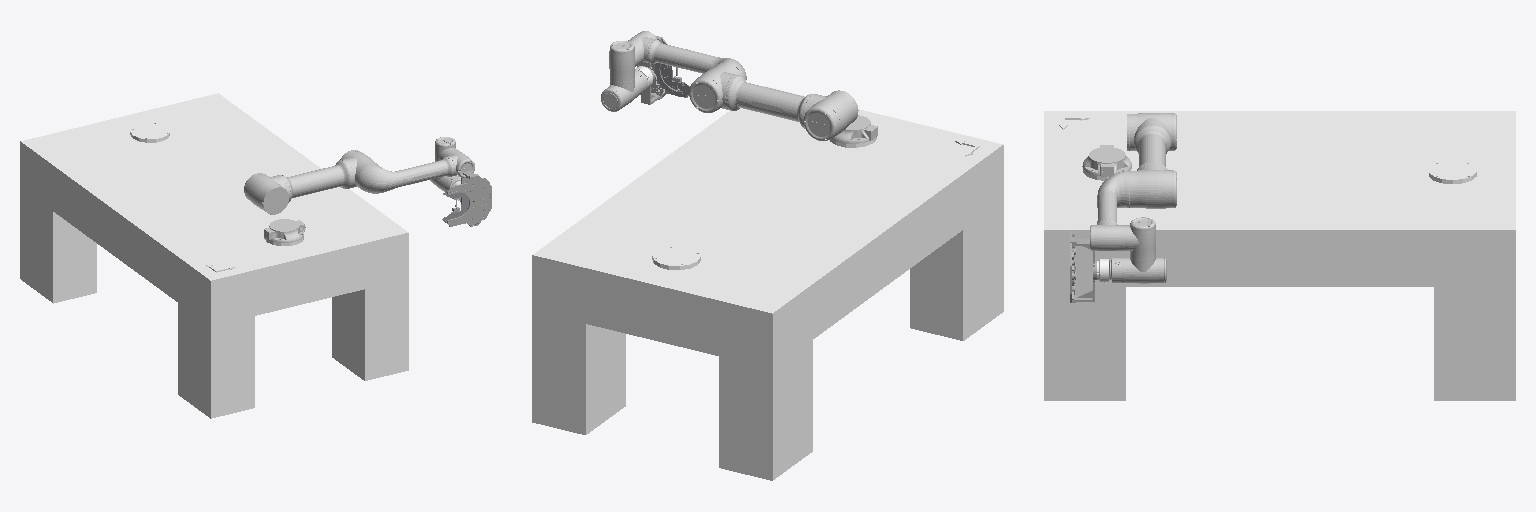
robot.urdf — dual_robot:
<?xml version="1.0" ?>
<robot name="dual_robot">
  <link name="base_link">
    <inertial>
      <origin xyz="0.45001 0.74998 0.42961" rpy="0 0 0" />
      <mass value="353.69" />
      <inertia ixx="90.977" ixy="-0.0055919"
        ixz="-0.00060496" iyy="36.448"
        iyz="0.0010856" izz="111.92" />
    </inertial>
    <visual>
      <origin xyz="0 0 0" rpy="0 0 0" />
      <geometry>
        <mesh filename="package://robot_description/meshes/table_base.STL" />
      </geometry>
      <material name="">
        <color rgba="1 1 1 1" />
      </material>
    </visual>
    <collision>
      <origin xyz="0 0 0" rpy="0 0 0" />
      <geometry>
        <mesh filename="package://robot_description/meshes/table_base.STL" />
      </geometry>
    </collision>
  </link>

<!--////////////////////////// RIGHT ARM ///////////////////////////-->

   <link name="right_link0">
    <inertial>
      <origin xyz="0.000991862282192705 -0.000192651788556533 0.0195495600981984" rpy="0 0 0" />
      <mass value="0.51639212234536" />
      <inertia
        ixx="0.000628942697006034" ixy="-6.29951814299122E-09"
        ixz="3.21122859626175E-06" iyy="0.00086768897455273"
        iyz="2.45009142518561E-07" izz="0.00136178777793849" />
    </inertial>
    <visual>
      <origin xyz="0 0 0" rpy="0 0 0" />
      <geometry>
        <mesh filename="package://robot_description/meshes/right_link0.STL" />
      </geometry>
      <material name="">
        <color rgba="0.847058823529412 0.847058823529412 0.847058823529412 1" />
      </material>
    </visual>
    <collision>
      <origin xyz="0 0 0" rpy="0 0 0" />
      <geometry>
        <mesh filename="package://robot_description/meshes/right_link0.STL" />
      </geometry>
    </collision>
  </link>

  <joint name="r_j0" type="fixed">
    <origin xyz="0.45 0.20023 0.615" rpy="0 0 0" />
    <parent link="base_link" />
    <child link="right_link0" />
    <axis xyz="0 0 1" />
  </joint>


  <link name="right_link1">
    <inertial>
      <origin xyz="-2.51857531862948E-07 0.00332256500839039 -0.00150902460016494" rpy="0 0 0" />
      <mass value="15.1346479444998" />
      <inertia
        ixx="0.0443031651788231" ixy="-2.81167524079919E-08"
        ixz="-4.05968268990278E-07" iyy="0.0430901762109995"
        iyz="1.43719449704963E-05" izz="0.0305221713846399" />
    </inertial>
    <visual>
      <origin xyz="0 0 0" rpy="0 0 0" />
      <geometry>
        <mesh filename="package://robot_description/meshes/right_link1.STL" />
      </geometry>
      <material name="">
        <color rgba="0.847058823529412 0.847058823529412 0.847058823529412 1" />
      </material>
    </visual>
    <collision>
      <origin xyz="0 0 0" rpy="0 0 0" />
      <geometry>
        <mesh filename="package://robot_description/meshes/right_link1.STL" />
      </geometry>
    </collision>
  </link>

  <joint name="r_j1" type="revolute">
    <origin xyz="0 -0.00022535 0.12015" rpy="0 0 0" />
    <parent link="right_link0" />
    <child link="right_link1" />
    <axis xyz="0 0 -1" />
    <limit
      lower="-6.2832" upper="6.2832"
      effort="0" velocity="0" />
  </joint>


  <link name="right_link2">
    <inertial>
      <origin xyz="0.215000100287162 6.43173030112631E-09 -0.143146610069181" rpy="0 0 0" />
      <mass value="45.8465918633366" />
      <inertia
        ixx="0.1037483140575" ixy="-5.87095025796085E-08"
        ixz="2.54282490418091E-07" iyy="0.240121009336192"
        iyz="2.15483178628983E-08" izz="0.212572501503178" />
    </inertial>
    <visual>
      <origin xyz="0 0 0" rpy="0 0 0" />
      <geometry>
        <mesh filename="package://robot_description/meshes/right_link2.STL" />
      </geometry>
      <material name="">
        <color rgba="0.847058823529412 0.847058823529412 0.847058823529412 1" />
      </material>
    </visual>
    <collision>
      <origin xyz="0 0 0" rpy="0 0 0" />
      <geometry>
        <mesh filename="package://robot_description/meshes/right_link2.STL" />
      </geometry>
    </collision>
  </link>

  <joint name="r_j2" type="revolute">
    <origin xyz="0 0 0" rpy="1.5708 0 0" />
    <parent link="right_link1" />
    <child link="right_link2" />
    <axis xyz="0 0 1" />
    <limit
      lower="-1.4835"
      upper="4.6251"
      effort="0"
      velocity="0" />
  </joint>


  <link name="right_link3">
    <inertial>
      <origin xyz="0.190735496583493 -1.52687675682439E-05 -0.0106365862195597" rpy="0 0 0" />
      <mass value="18.0534564554839" />
      <inertia
        ixx="0.0197914204709761" ixy="6.48612971078311E-07"
        ixz="-0.0162800799758652" iyy="0.168630223367361"
        iyz="3.37641397432236E-07" izz="0.16527336838242" />
    </inertial>
    <visual>
      <origin xyz="0 0 0" rpy="0 0 0" />
      <geometry>
        <mesh filename="package://robot_description/meshes/right_link3.STL" />
      </geometry>
      <material name="">
        <color rgba="0.847058823529412 0.847058823529412 0.847058823529412 1" />
      </material>
    </visual>
    <collision>
      <origin xyz="0 0 0" rpy="0 0 0" />
      <geometry>
        <mesh filename="package://robot_description/meshes/right_link3.STL" />
      </geometry>
    </collision>
  </link>

  <joint name="r_j3" type="revolute">
    <origin xyz="0.43 0 0" rpy="0 0 0" />
    <parent link="right_link2" />
    <child link="right_link3" />
    <axis xyz="0 0 1" />
    <limit
      lower="-3.0543" upper="3.0543"
      effort="0" velocity="0" />
  </joint>

  <link name="right_link4">
    <inertial>
      <origin xyz="-1.98734804623957E-06 -0.00595118756440466 0.00267886074216198" rpy="0 0 0" />
      <mass value="5.53782702890544" />
      <inertia
        ixx="0.00708415707773479" ixy="1.83211236326858E-07"
        ixz="-2.36169851102956E-08" iyy="0.00516123063669"
        iyz="-0.000397739879929697" izz="0.00684324625577804" />
    </inertial>
    <visual>
      <origin xyz="0 0 0" rpy="0 0 0" />
      <geometry>
        <mesh filename="package://robot_description/meshes/right_link4.STL" />
      </geometry>
      <material name="">
        <color rgba="0.847058823529412 0.847058823529412 0.847058823529412 1" />
      </material>
    </visual>
    <collision>
      <origin xyz="0 0 0" rpy="0 0 0" />
      <geometry>
        <mesh filename="package://robot_description/meshes/right_link4.STL" />
      </geometry>
    </collision>
  </link>

  <joint name="r_j4" type="revolute">
    <origin xyz="0.3685 -1.185E-05 -0.114" rpy="0 0 0" />
    <parent link="right_link3" />
    <child link="right_link4" />
    <axis xyz="0 0 -1" />
    <limit
      lower="-1.4835" upper="4.6251"
      effort="0" velocity="0" />
  </joint>

  <link name="right_link5">
    <inertial>
      <origin xyz="-1.90944871281129E-06 -0.00288907759425724 -0.00234237394169168" rpy="0 0 0" />
      <mass value="6.33394466548074" />
      <inertia
        ixx="0.012920396120737" ixy="-1.08659585918921E-07"
        ixz="5.89055789344623E-09" iyy="0.00584529345673906"
        iyz="4.29603782509869E-05" izz="0.0126275585433332" />
    </inertial>
    <visual>
      <origin xyz="0 0 0" rpy="0 0 0" />
      <geometry>
        <mesh filename="package://robot_description/meshes/right_link5.STL" />
      </geometry>
      <material name="">
        <color rgba="0.847058823529412 0.847058823529412 0.847058823529412 1" />
      </material>
    </visual>
    <collision>
      <origin xyz="0 0 0" rpy="0 0 0" />
      <geometry>
        <mesh filename="package://robot_description/meshes/right_link5.STL" />
      </geometry>
    </collision>
  </link>

  <joint name="r_j5" type="revolute">
    <origin xyz="0 -0.1135 0" rpy="1.5708 0 0" />
    <parent link="right_link4" />
    <child link="right_link5" />
    <axis xyz="0 0 1" />
    <limit
      lower="-6.2832" upper="6.2832"
      effort="0" velocity="0" />
  </joint>


  <link name="right_link6">
    <inertial>
      <origin xyz="2.76523161144571E-05 -1.34854737601515E-05 -0.021245060068734" rpy="0 0 0" />
      <mass value="1.41689125820954" />
      <inertia
        ixx="0.000713704897956402" ixy="-6.91164349011993E-07"
        ixz="-6.36734535410033E-07" iyy="0.00072362694039658"
        iyz="1.5890038073839E-06" izz="0.00112895600939514" />
    </inertial>
    <visual>
      <origin xyz="0 0 0" rpy="0 0 0" />
      <geometry>
        <mesh filename="package://robot_description/meshes/right_link6.STL" />
      </geometry>
      <material name="">
        <color rgba="0.847058823529412 0.847058823529412 0.847058823529412 1" />
      </material>
    </visual>
    <collision>
      <origin xyz="0 0 0" rpy="0 0 0" />
      <geometry>
        <mesh filename="package://robot_description/meshes/right_link6.STL" />
      </geometry>
    </collision>
  </link>

  <joint name="r_j6" type="revolute">
    <origin xyz="0 0.107 0" rpy="-1.5708 0 0" />
    <parent link="right_link5" />
    <child link="right_link6" />
    <axis xyz="0 0 1" />
    <limit
      lower="-6.2832" upper="6.2832"
      effort="0" velocity="0" />
  </joint>

<!-- /////////////////////////////// RIGHT FORCE SENSOR ////////////////////////////// -->
  <link name="force_sensor_link">
    <inertial>
      <origin xyz="-0.00038657 0.00017956 -0.02055" rpy="0 0 0" />
      <mass value="0.12592" />
      <inertia
        ixx="5.6139E-05" ixy="4.6333E-07"
        ixz="-3.1627E-08" iyy="5.5177E-05"
        iyz="-1.4175E-07" izz="9.499E-05" />
    </inertial>
    <visual>
      <origin xyz="0 0 0" rpy="0 0 0" />
      <geometry>
        <mesh filename="package://robot_description/meshes/force_sensor_link.STL" />
      </geometry>
      <material name="">
        <color rgba="1 1 1 1" />
      </material>
    </visual>
    <collision>
      <origin xyz="0 0 0" rpy="0 0 0" />
      <geometry>
        <mesh filename="package://robot_description/meshes/force_sensor_link.STL" />
      </geometry>
    </collision>
  </link>

  <joint name="r_f1" type="fixed">
    <origin xyz="0.00044323 -0.00044323 0.0395" rpy="0 0 0" />
    <parent link="right_link6" />
    <child link="force_sensor_link" />
    <axis xyz="0 0 0" />
  </joint>

<!-- /////////////////////////////// RIGHT TOOL ////////////////////////////// -->
  <link name="tool_body">
    <inertial>
      <origin xyz="0.0030549 4.2661E-07 0.047026" rpy="0 0 0" />
      <mass value="0.31958" />
      <inertia
        ixx="0.0011856" ixy="-1.0021E-07"
        ixz="2.5315E-07" iyy="0.00041875"
        iyz="-7.8268E-10" izz="0.0014705" />
    </inertial>
    <visual>
      <origin xyz="0 0 0" rpy="0 0 0" />
      <geometry>
        <mesh filename="package://robot_description/meshes/tool_body.STL" />
      </geometry>
      <material name="">
        <color rgba="0.74902 0.74902 0.74902 1" />
      </material>
    </visual>
    <collision>
      <origin xyz="0 0 0" rpy="0 0 0" />
      <geometry>
        <mesh filename="package://robot_description/meshes/tool_body.STL" />
      </geometry>
    </collision>
  </link>

  <joint name="r_f2" type="fixed">
    <origin xyz="-0.00044323 0.00044323 0.013" rpy="0 0 0" />
    <parent link="force_sensor_link" />
    <child link="tool_body" />
    <axis xyz="0 0 -1" />
    <limit
      lower="0" upper="0"
      effort="0" velocity="0" />
  </joint>

  <link name="screw_gear">
    <inertial>
      <origin xyz="-0.018422 -0.0011551 0.0012466" rpy="0 0 0" />
      <mass value="0.4637" />
      <inertia
        ixx="0.0010994" ixy="2.3876E-05"
        ixz="1.4588E-06" iyy="0.00058941"
        iyz="2.5853E-07" izz="0.0016815" />
    </inertial>
    <visual>
      <origin xyz="0 0 0" rpy="0 0 0" />
      <geometry>
        <mesh filename="package://robot_description/meshes/screw_gear.STL" />
      </geometry>
      <material name="">
        <color rgba="0.63922 0.63922 0.66275 1" />
      </material>
    </visual>
    <collision>
      <origin xyz="0 0 0" rpy="0 0 0" />
      <geometry>
        <mesh filename="package://robot_description/meshes/screw_gear.STL" />
      </geometry>
    </collision>
  </link>

  <joint name="r_c1" type="continuous">
    <origin xyz="-0.0785 0 0.0644" rpy="3.1416 0 3.1416" />
    <parent link="tool_body" />
    <child link="screw_gear" />
    <axis xyz="0 0 -1" />
  </joint>


  <link name="side_left">
    <inertial>
      <origin xyz="-1.9154E-10 5.5893E-12 0.00045008" rpy="0 0 0" />
      <mass value="0.0043012" />
      <inertia
        ixx="1.3074E-07" ixy="6.2645E-15"
        ixz="4.2165E-16" iyy="3.1828E-07"
        iyz="6.4925E-16" izz="2.6659E-07" />
    </inertial>
    <visual>
      <origin xyz="0 0 0" rpy="0 0 0" />
      <geometry>
        <mesh filename="package://robot_description/meshes/side_left.STL" />
      </geometry>
      <material name="">
        <color rgba="0.74902 0.74902 0.74902 1" />
      </material>
    </visual>
    <collision>
      <origin xyz="0 0 0" rpy="0 0 0" />
      <geometry>
        <mesh filename="package://robot_description/meshes/side_left.STL" />
      </geometry>
    </collision>
  </link>

  <joint name="r_p1" type="prismatic">
    <origin xyz="0.0012847 -0.026778 0.0036" rpy="-1.5708 0 -3.0937" />
    <parent link="screw_gear" />
    <child link="side_left" />
    <axis xyz="0 0 -1" />
    <limit
      lower="-0.01" upper="0.005"
      effort="0" velocity="0" />
  </joint>


  <link name="right_side">
    <inertial>
      <origin xyz="2.2426E-05 3.1396E-05 2.1095E-05" rpy="0 0 0" />
      <mass value="0.0042532" />
      <inertia
        ixx="3.0118E-07" ixy="-7.0175E-15"
        ixz="2.9195E-17" iyy="1.1553E-07"
        iyz="1.3439E-16" izz="2.6427E-07" />
    </inertial>
    <visual>
      <origin xyz="0 0 0" rpy="0 0 0" />
      <geometry>
        <mesh filename="package://robot_description/meshes/right_side.STL" />
      </geometry>
      <material name="">
        <color rgba="0.74902 0.74902 0.74902 1" />
      </material>
    </visual>
    <collision>
      <origin xyz="0 0 0" rpy="0 0 0" />
      <geometry>
        <mesh filename="package://robot_description/meshes/right_side.STL" />
      </geometry>
    </collision>
  </link>

  <joint name="r_p2" type="prismatic">
    <origin xyz="-0.0012847 0.026778 0.0036" rpy="1.6187 -1.5708 0" />
    <parent link="screw_gear" />
    <child link="right_side" />
    <axis xyz="0 0 1" />
    <limit
      lower="-0.01" upper="0.005"
      effort="0" velocity="0" />
  </joint>

</robot>

--- Render facts (derived) ---
3 views of the same robot in one strip: view 1: azimuth 30°, elevation 25°; view 2: azimuth 150°, elevation 25°; view 3: azimuth 270°, elevation 25° (orthographic).
Model dual_robot with 13 links and 12 joints (6 revolute, 1 continuous, 2 prismatic, 3 fixed), rooted at base_link, posed all joints at 0.
Links seen in each view (by area): view 1: base_link, right_link2, right_link3, tool_body, right_link0; view 2: base_link, right_link2, right_link3, right_link4, right_link5, right_link0, screw_gear, tool_body; view 3: base_link, right_link2, right_link3, right_link4, right_link0, right_link5, tool_body.
Boxes of the visible links, x1=… form: base_link: x1=20, y1=93, x2=408, y2=418; right_link2: x1=244, y1=150, x2=377, y2=214; right_link3: x1=358, y1=148, x2=474, y2=193; tool_body: x1=447, y1=171, x2=491, y2=226; right_link0: x1=264, y1=219, x2=305, y2=242; base_link: x1=532, y1=86, x2=1003, y2=480; right_link2: x1=689, y1=62, x2=858, y2=140; right_link3: x1=628, y1=31, x2=746, y2=79; right_link4: x1=609, y1=41, x2=639, y2=84; right_link5: x1=601, y1=75, x2=642, y2=111; right_link0: x1=832, y1=115, x2=877, y2=143; screw_gear: x1=655, y1=63, x2=689, y2=96; tool_body: x1=637, y1=36, x2=687, y2=104; base_link: x1=1044, y1=111, x2=1515, y2=400; right_link2: x1=1127, y1=113, x2=1176, y2=208; right_link3: x1=1090, y1=171, x2=1128, y2=250; right_link4: x1=1129, y1=217, x2=1155, y2=262; right_link0: x1=1082, y1=145, x2=1131, y2=176; right_link5: x1=1122, y1=258, x2=1166, y2=283; tool_body: x1=1070, y1=231, x2=1096, y2=302.
Bounding box of the posed robot: 1.32 × 1.5 × 0.7976 m (x, y, z).
12 mesh visuals loaded from 13 distinct referenced files (12 binary STL); not drawn: 1 (reference not matched to a file when rendering).